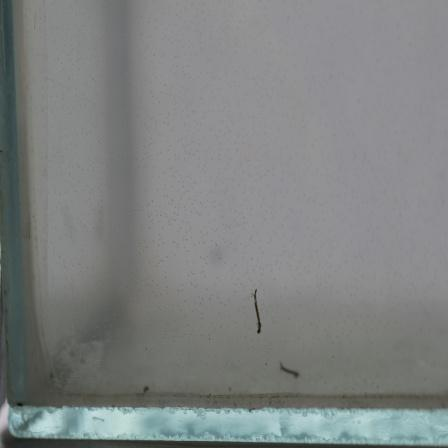Jentik-Nyamuk: (249, 282, 265, 343)
